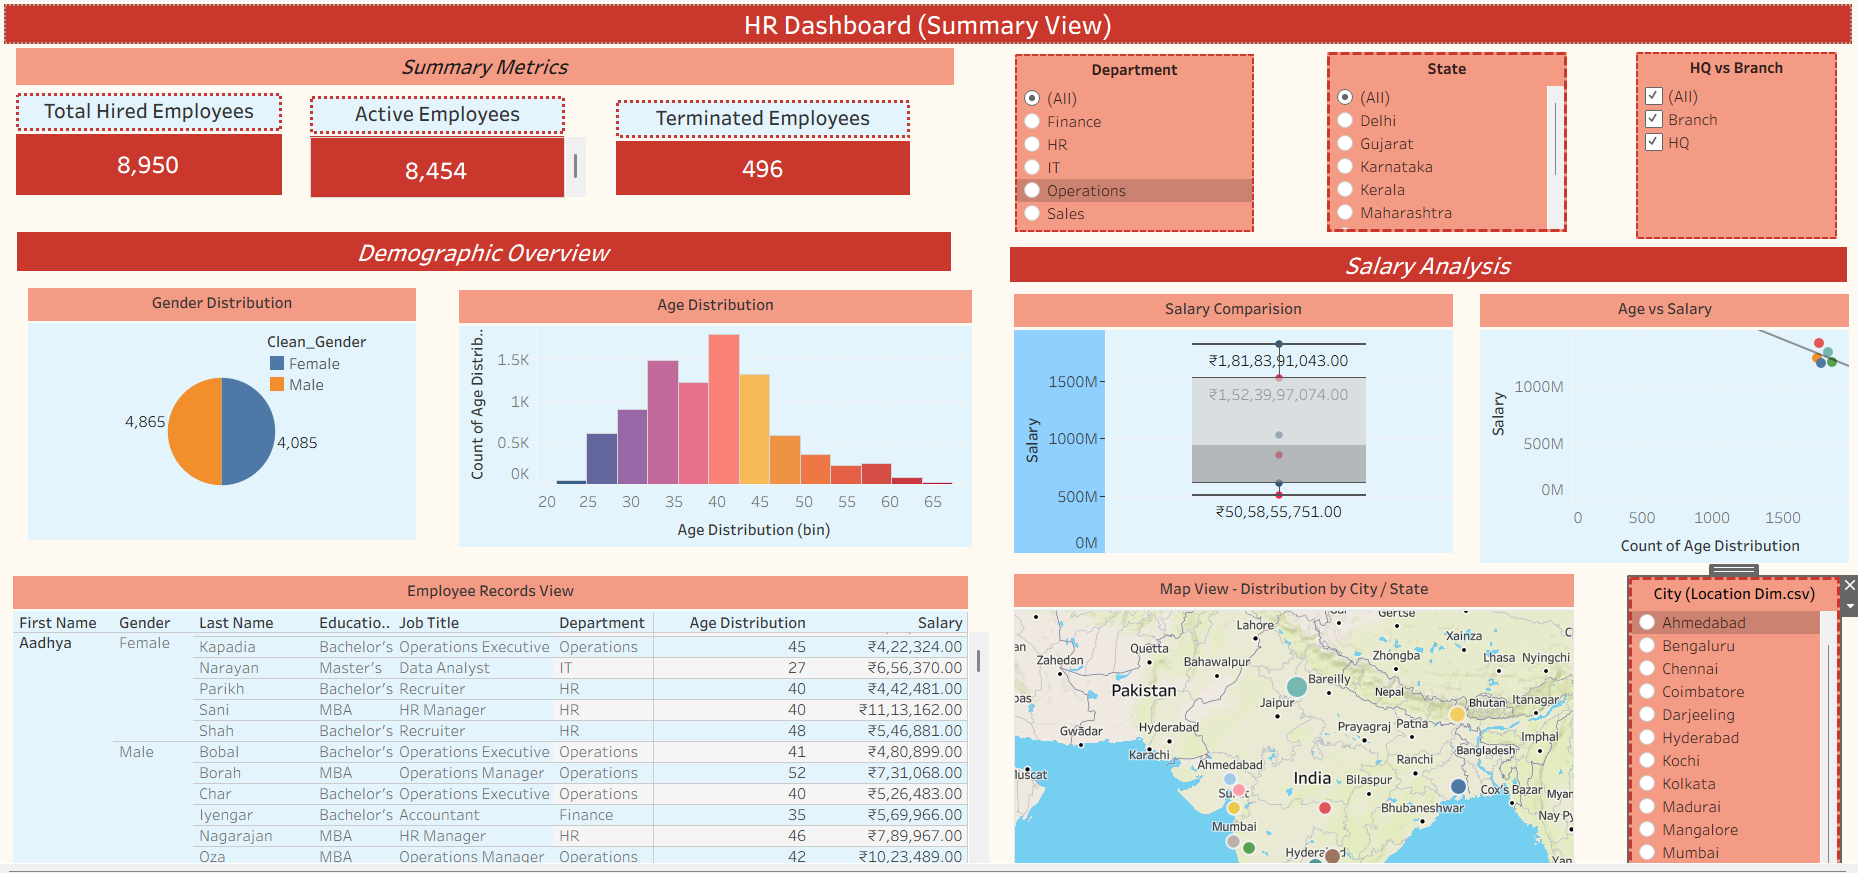

This screenshot's page, from the dashboard's own definition file:
{"tool":"tableau","page":{"name":"HR Dashboard","canvas":[1000,1000],"units":"permille","ordinal":1},"visuals":[{"type":"title","box":[4.9,8.3,990.2,41.7]},{"type":"filter","title":"Employee Records View","param":"[federated.1a7s9ks0zl6jkw19umaup15d6qiy].[none:State:nk]","box":[675.8,49,128.6,161.5]},{"type":"text","box":[24.1,53.1,592.4,32.3]},{"type":"filter","title":"Employee Records View","param":"[federated.1a7s9ks0zl6jkw19umaup15d6qiy].[none:Department:nk]","box":[530.8,64.6,120.7,138.5]},{"type":"filter","title":"Map View","param":"[federated.1a7s9ks0zl6jkw19umaup15d6qiy].[cnt:Employee ID:qk]","box":[828.5,80.2,144.8,112.5]},{"type":"worksheet","title":"KPI1","mark":"Automatic","box":[153.8,90.6,201.4,87.5]},{"type":"worksheet","title":"KPI 3","mark":"Automatic","box":[333.1,92.7,157.2,82.3]},{"type":"worksheet","title":"KPI 2","mark":"Automatic","box":[13.1,94.8,136.6,80.2]},{"type":"text","box":[590.3,213.5,404.8,51]},{"type":"worksheet","title":"Age vs Salary","mark":"Circle","rows":["Salary"],"cols":["Calculation_1280390560337920"],"box":[794.6,250,197.4,242.7]},{"type":"worksheet","title":"Age Distribution","mark":"Automatic","rows":["Calculation_1280390560337920"],"cols":["Age Distribution (bin)"],"box":[252.1,256.2,224.8,237.5]},{"type":"worksheet","title":"Salary Comparision","mark":"Circle","rows":["Salary"],"box":[545.5,260.4,235.2,235.4]},{"type":"worksheet","title":"Gender Ratio ","mark":"Pie","box":[15.8,266.7,178.2,230.2]},{"type":"legend","title":"Salary Comparision","param":"[federated.1a7s9ks0zl6jkw19umaup15d6qiy].[none:Gender:nk]","box":[167.9,292.7,61.2,94.8]},{"type":"worksheet","title":"Map View","mark":"Automatic","box":[589.9,502.1,266.9,364.6]},{"type":"worksheet","title":"Employee Records View","mark":"Automatic","rows":["First Name","Gender","Last Name","Education Level","Job Title","Department"],"box":[12.1,503.1,587.9,354.2]},{"type":"filter","title":"Map View","param":"[federated.1a7s9ks0zl6jkw19umaup15d6qiy].[none:City (Location_Dim.csv):nk]","box":[877,532.3,97,330.2]}]}

Visuals, with their boxes on the dashboard's canvas, which has no fixed pixel size, in thousandths of its width and height (x1, y1, x2, y2). These are canvas units, not pixel positions in the 1858x873 screenshot, which may show the page scaled, cropped or inside an application window:
title: Rect(5, 8, 995, 50)
"Employee Records View" filter: Rect(676, 49, 804, 210)
text: Rect(24, 53, 616, 85)
"Employee Records View" filter: Rect(531, 65, 652, 203)
"Map View" filter: Rect(828, 80, 973, 193)
"KPI1" worksheet: Rect(154, 91, 355, 178)
"KPI 3" worksheet: Rect(333, 93, 490, 175)
"KPI 2" worksheet: Rect(13, 95, 150, 175)
text: Rect(590, 214, 995, 264)
"Age vs Salary" worksheet (Circle marks): Rect(795, 250, 992, 493)
"Age Distribution" worksheet: Rect(252, 256, 477, 494)
"Salary Comparision" worksheet (Circle marks): Rect(546, 260, 781, 496)
"Gender Ratio " worksheet (Pie marks): Rect(16, 267, 194, 497)
"Salary Comparision" legend: Rect(168, 293, 229, 388)
"Map View" worksheet: Rect(590, 502, 857, 867)
"Employee Records View" worksheet: Rect(12, 503, 600, 857)
"Map View" filter: Rect(877, 532, 974, 862)
